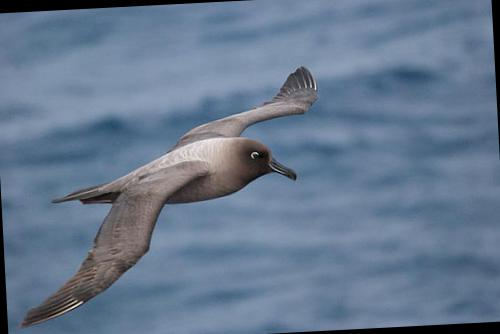bird: (1, 52, 336, 333)
